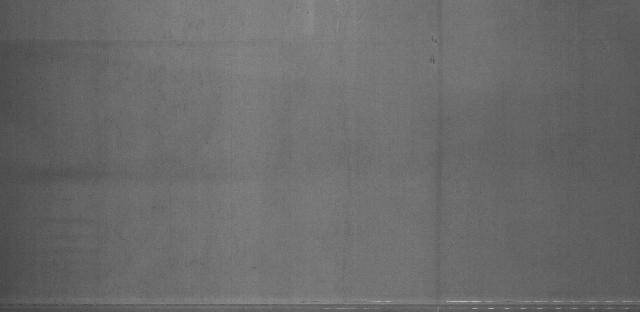welding_line: (5, 293, 640, 311)
